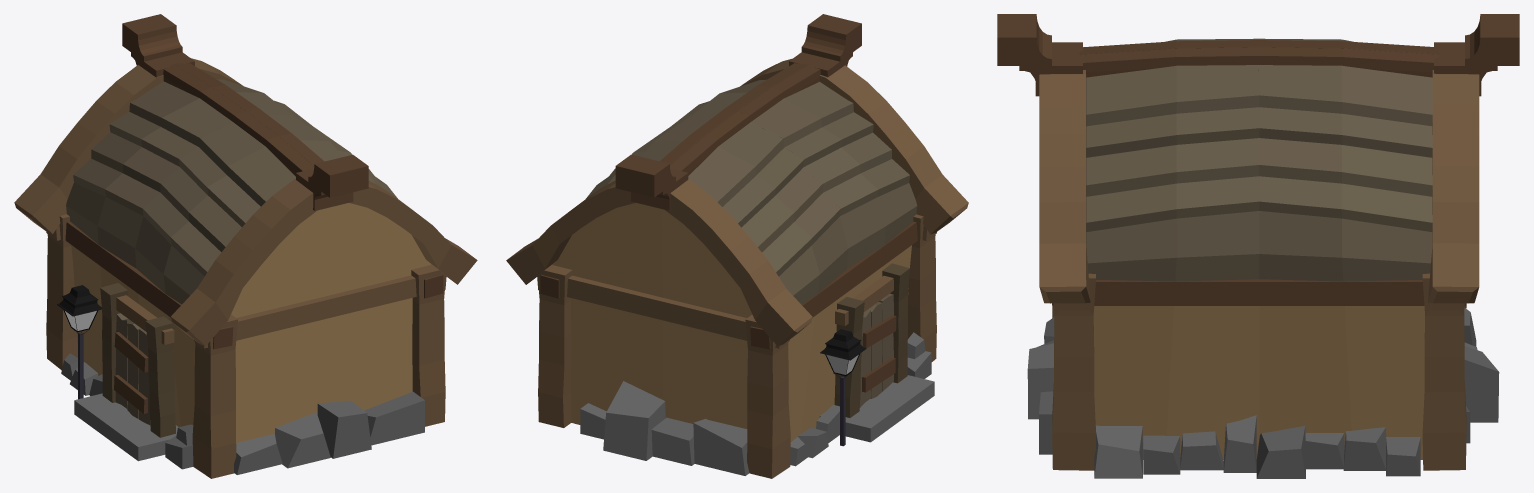
Rendered from casa2.fbx.
3 views of the same model, side by side, from view 1: azimuth 30°, elevation 25°; view 2: azimuth 150°, elevation 25°; view 3: azimuth 270°, elevation 25° (orthographic). The views are drawn at different scales.
Visible parts, largest first — view 1: casa.001, pedras.001, negocinho feio.001, madeira porta.001, porta.001, porta.009, negocinho feio.020; view 2: casa.001, pedras.001, negocinho feio.001, porta.001, madeira porta.001, porta.009, negocinho feio.020; view 3: casa.001, pedras.001, negocinho feio.001.
Part boxes in pixels (x1,y1,x2,y2): casa.001: (14,58,477,478); pedras.001: (61,353,424,474); negocinho feio.001: (122,14,368,210); madeira porta.001: (100,283,175,437); porta.001: (74,295,178,461); porta.009: (114,313,150,424); negocinho feio.020: (57,285,101,316); casa.001: (506,58,968,478); pedras.001: (580,332,931,475); negocinho feio.001: (615,14,861,210); porta.001: (819,275,934,442); madeira porta.001: (834,263,909,417); porta.009: (859,293,896,407); negocinho feio.020: (820,329,866,360); casa.001: (1039,38,1479,470); pedras.001: (1027,308,1499,478); negocinho feio.001: (997,14,1519,96).
Bounding box in the file's own units: 3673 × 3502 × 4441.
